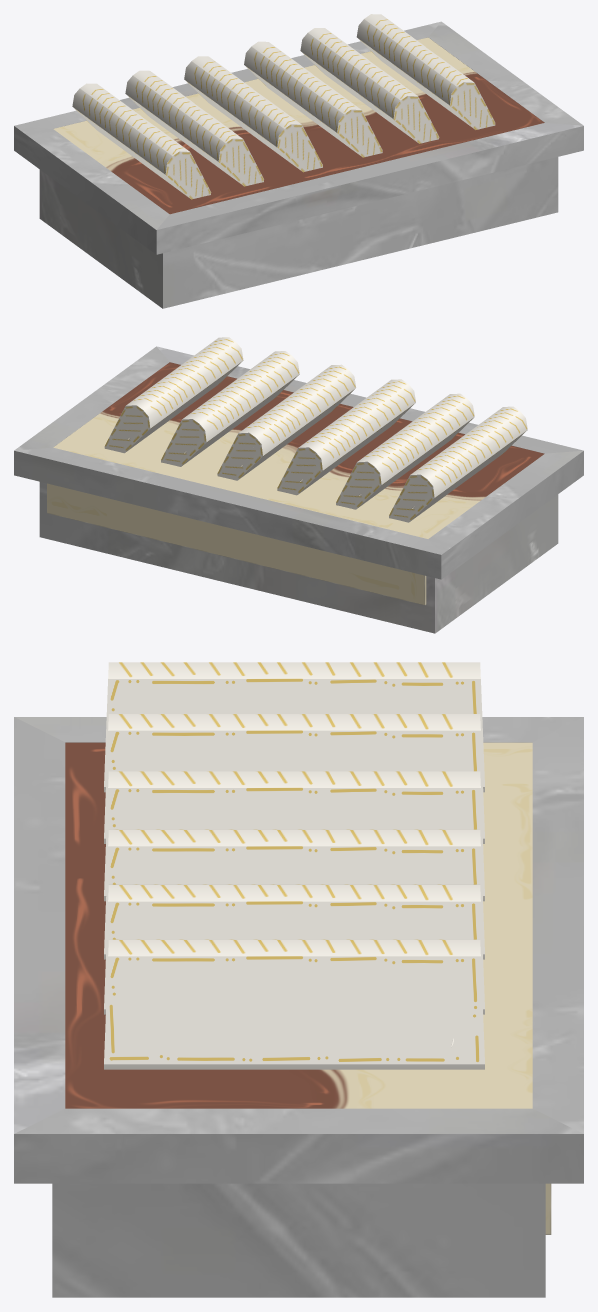
The model's file is nucita.fbx.
3 renders of one model, top to bottom at view 1: azimuth 30°, elevation 25°; view 2: azimuth 150°, elevation 25°; view 3: azimuth 270°, elevation 25°, orthographic. The views are drawn at different scales.
Visible parts, largest first — view 1: pCube12, pCube6, pasted__pasted__pasted__pasted__pasted__pCylinder7, pasted__pasted__pasted__pasted__pasted__pCylinder8, pasted__pasted__pasted__pasted__pasted__pCylinder5, pasted__pasted__pasted__pasted__pasted__pCylinder6, pasted__pasted__pasted__pasted__pasted__pCylinder3, pasted__pasted__pasted__pasted__pasted__pCylinder4; view 2: pCube12, pCube6, pasted__pasted__pasted__pasted__pasted__pCylinder3, pasted__pasted__pasted__pasted__pasted__pCylinder5, pasted__pasted__pasted__pasted__pasted__pCylinder6, pasted__pasted__pasted__pasted__pasted__pCylinder8, pasted__pasted__pasted__pasted__pasted__pCylinder4, pasted__pasted__pasted__pasted__pasted__pCylinder7; view 3: pCube12, pasted__pasted__pasted__pasted__pasted__pCylinder3, pCube6, pasted__pasted__pasted__pasted__pasted__pCylinder6, pasted__pasted__pasted__pasted__pasted__pCylinder7, pasted__pasted__pasted__pasted__pasted__pCylinder5, pasted__pasted__pasted__pasted__pasted__pCylinder4, pasted__pasted__pasted__pasted__pasted__pCylinder8.
Part boxes in pixels (x1,y1,x2,y2): pCube12: [14, 21, 583, 308]; pCube6: [53, 37, 544, 214]; pasted__pasted__pasted__pasted__pasted__pCylinder7: [125, 70, 263, 186]; pasted__pasted__pasted__pasted__pasted__pCylinder8: [72, 83, 211, 199]; pasted__pasted__pasted__pasted__pasted__pCylinder5: [244, 41, 382, 157]; pasted__pasted__pasted__pasted__pasted__pCylinder6: [184, 56, 322, 172]; pasted__pasted__pasted__pasted__pasted__pCylinder3: [356, 14, 495, 129]; pasted__pasted__pasted__pasted__pasted__pCylinder4: [300, 28, 439, 143]; pCube12: [14, 346, 583, 633]; pCube6: [47, 362, 544, 605]; pasted__pasted__pasted__pasted__pasted__pCylinder3: [104, 337, 243, 453]; pasted__pasted__pasted__pasted__pasted__pCylinder5: [217, 364, 356, 480]; pasted__pasted__pasted__pasted__pasted__pCylinder6: [277, 379, 415, 495]; pasted__pasted__pasted__pasted__pasted__pCylinder8: [389, 406, 527, 522]; pasted__pasted__pasted__pasted__pasted__pCylinder4: [161, 351, 299, 466]; pasted__pasted__pasted__pasted__pasted__pCylinder7: [336, 393, 474, 509]; pCube12: [14, 717, 583, 1297]; pasted__pasted__pasted__pasted__pasted__pCylinder3: [104, 939, 484, 1069]; pCube6: [65, 742, 551, 1234]; pasted__pasted__pasted__pasted__pasted__pCylinder6: [104, 771, 484, 901]; pasted__pasted__pasted__pasted__pasted__pCylinder7: [104, 714, 484, 843]; pasted__pasted__pasted__pasted__pasted__pCylinder5: [104, 829, 484, 959]; pasted__pasted__pasted__pasted__pasted__pCylinder4: [104, 884, 484, 1014]; pasted__pasted__pasted__pasted__pasted__pCylinder8: [104, 662, 484, 792].
Bounding box in the file's own units: 31.78 × 9.92 × 18.35.
3 materials, 3 textured.
